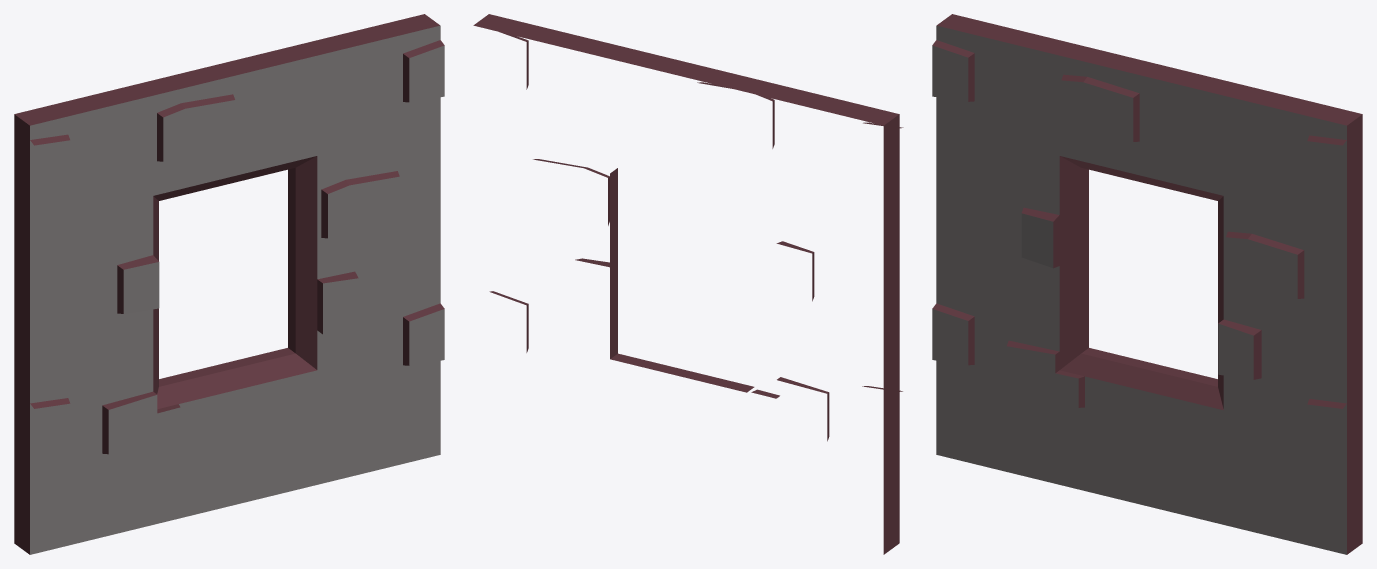
File: buildings-wall-stone-window-3x3m-c.glb
3 views of the same model, side by side, from view 1: azimuth 30°, elevation 25°; view 2: azimuth 150°, elevation 25°; view 3: azimuth 330°, elevation 25° (orthographic).
Parts seen in each view (by area): view 1: wall-stone-window-3x3m-c; view 2: wall-stone-window-3x3m-c; view 3: wall-stone-window-3x3m-c.
Part boxes in pixels (x1,y1,x2,y2): wall-stone-window-3x3m-c: (14, 14, 444, 554); wall-stone-window-3x3m-c: (473, 14, 903, 554); wall-stone-window-3x3m-c: (932, 14, 1362, 554).
Bounding box in the file's own units: 3 × 3 × 0.2788.
